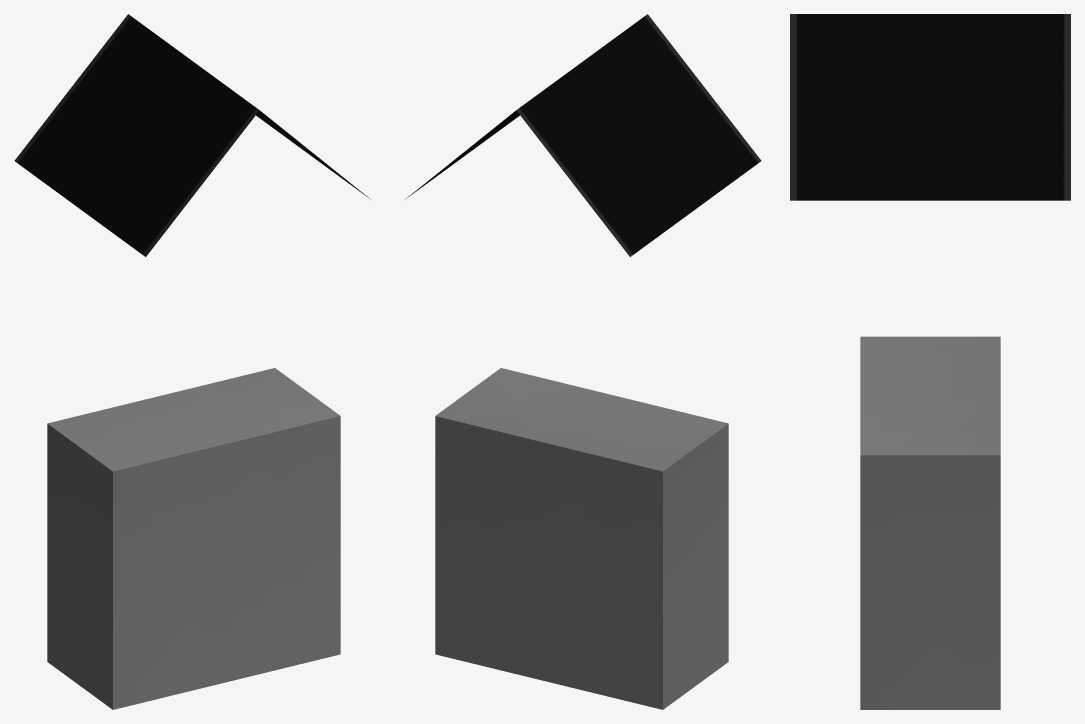
Rendered from dc_metro_roof_g1b.obj.
3 renders of one model, left to right at view 1: azimuth 30°, elevation 25°; view 2: azimuth 150°, elevation 25°; view 3: azimuth 270°, elevation 25°, orthographic. The views are drawn at different scales.
Parts seen in each view (by area): view 1: part1b; view 2: part1b; view 3: part1b.
Boxes of the visible parts, x1=… form: part1b: x1=14, y1=14, x2=370, y2=709; part1b: x1=405, y1=14, x2=761, y2=709; part1b: x1=790, y1=14, x2=1070, y2=709.
Size of the model in its own units: 1 by 2.5 by 1.
2 materials, 2 textured.
